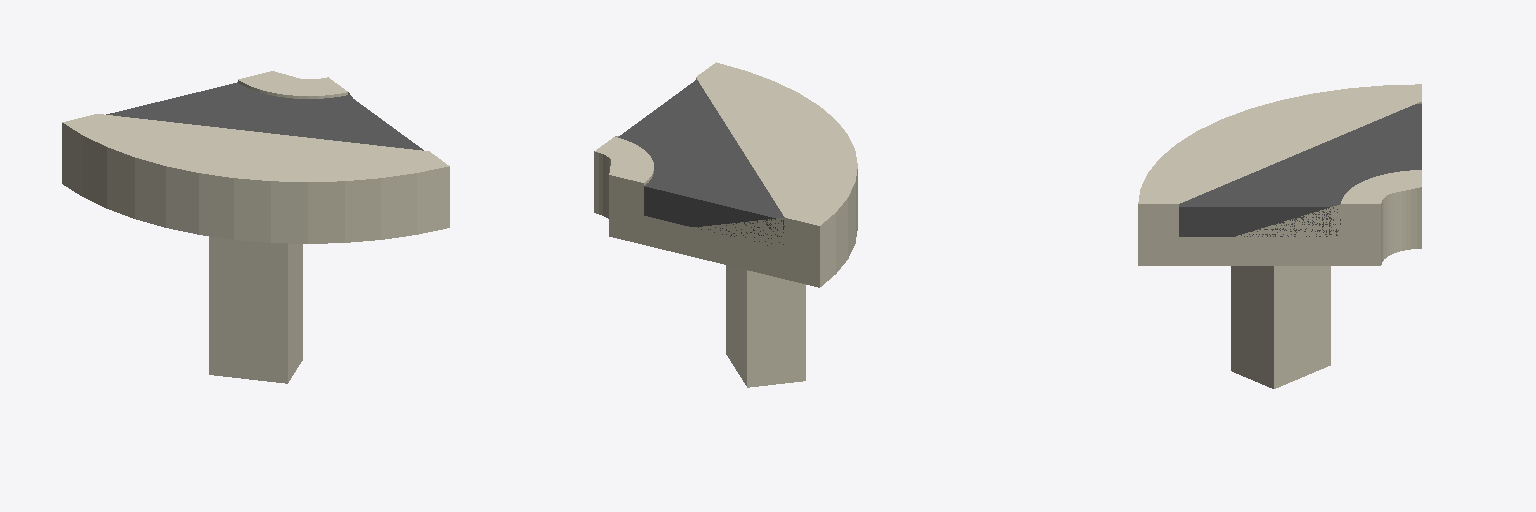
Rendered from CornerBridge.obj.
3 views of the same model, side by side, from view 1: azimuth 30°, elevation 25°; view 2: azimuth 150°, elevation 25°; view 3: azimuth 270°, elevation 25° (orthographic).
Visible parts, largest first — view 1: roadTile_298; view 2: roadTile_298; view 3: roadTile_298.
Boxes of the visible parts, <box> form: roadTile_298: <box>62,71,449,383</box>; roadTile_298: <box>594,62,857,387</box>; roadTile_298: <box>1138,84,1421,388</box>.
Size of the model in its own units: 2.62 by 2.28 by 2.62.